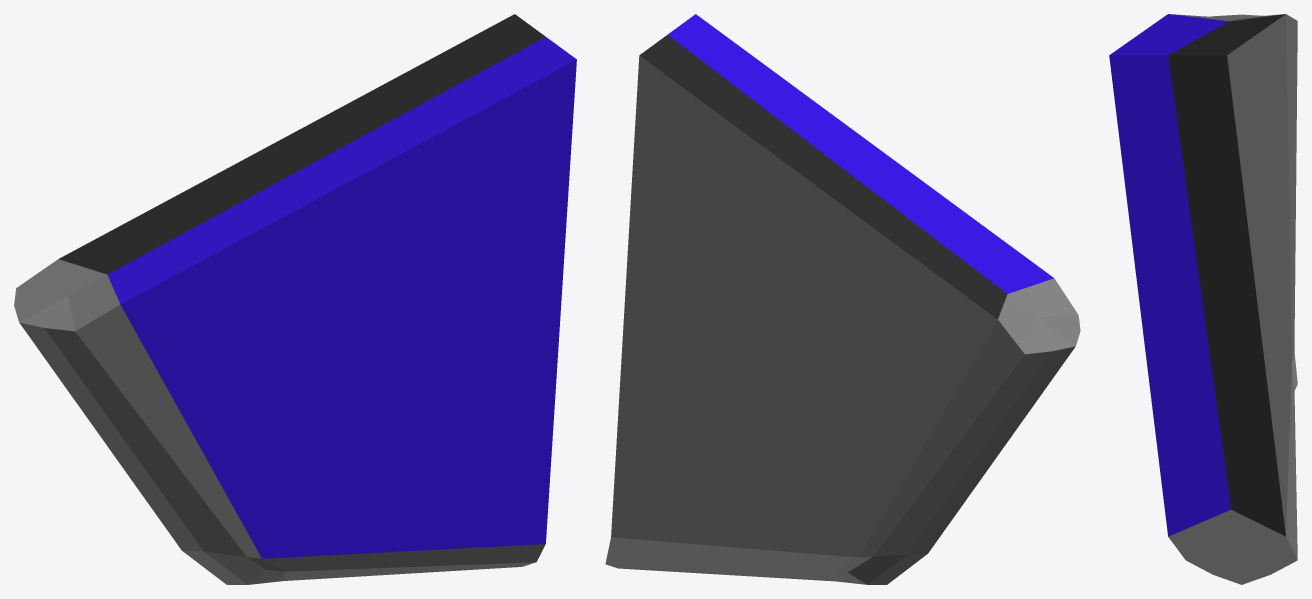
File: ArmorLD.fbx
3 views of the same model, side by side, from view 1: azimuth 30°, elevation 25°; view 2: azimuth 150°, elevation 25°; view 3: azimuth 270°, elevation 25° (orthographic). The views are drawn at different scales.
Parts seen in each view (by area): view 1: Armor.LD; view 2: Armor.LD; view 3: Armor.LD.
Boxes of the visible parts, bbox=[...] form: Armor.LD: bbox=[14, 14, 576, 584]; Armor.LD: bbox=[605, 14, 1080, 584]; Armor.LD: bbox=[1109, 14, 1297, 584].
Size of the model in its own units: 18.14 by 19.83 by 6.4.
